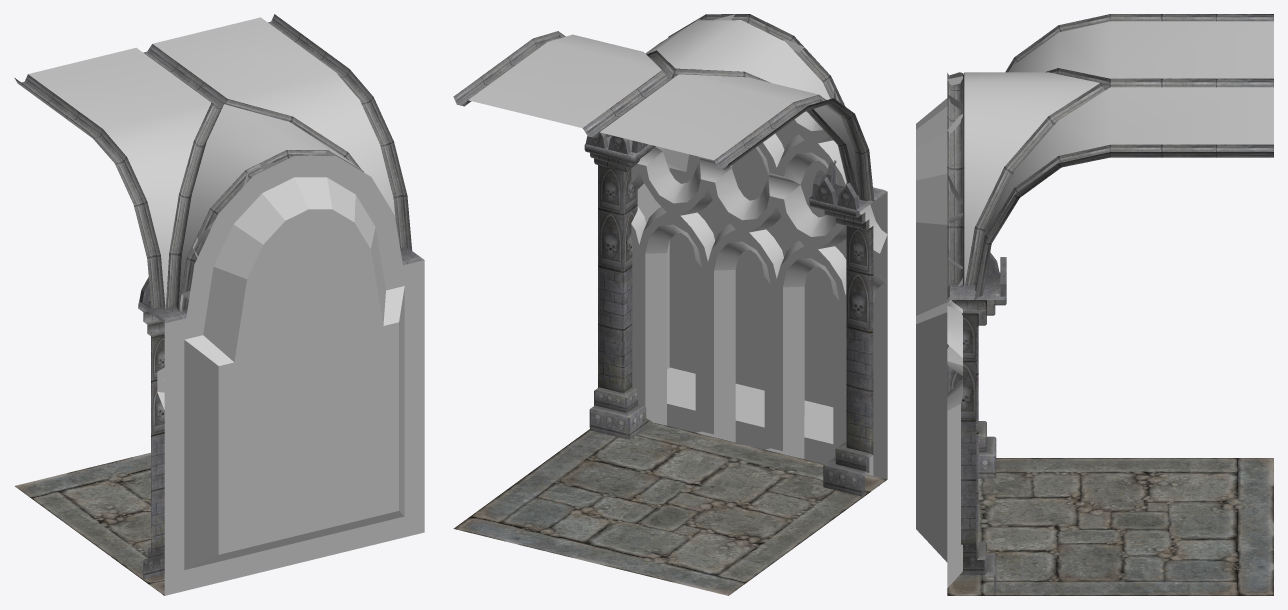
File: Wall_Ornament1.FBX
3 renders of one model, left to right at view 1: azimuth 30°, elevation 25°; view 2: azimuth 150°, elevation 25°; view 3: azimuth 270°, elevation 25°, orthographic. The views are drawn at different scales.
Visible parts, largest first — view 1: Wall Ornament_1; view 2: Wall Ornament_1; view 3: Wall Ornament_1.
Part boxes in pixels (x1,y1,x2,y2): Wall Ornament_1: (14, 14, 424, 595); Wall Ornament_1: (453, 14, 887, 595); Wall Ornament_1: (916, 14, 1273, 595).
Bounding box in the file's own units: 500 × 750 × 548.
